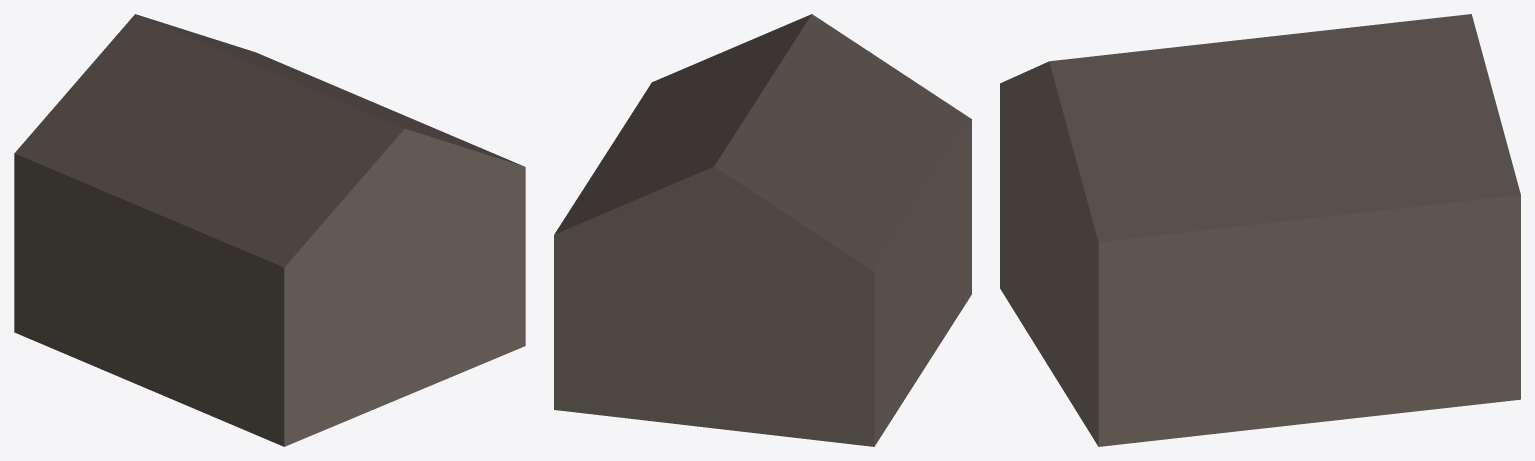
The picture shows the model from 3 angles, left to right: view 1: azimuth 30°, elevation 25°; view 2: azimuth 150°, elevation 25°; view 3: azimuth 270°, elevation 25°; orthographic projection. The views are drawn at different scales.
Visible parts, largest first — view 1: HP-w1200813401; view 2: HP-w1200813401; view 3: HP-w1200813401.
Boxes of the visible parts, left/top/right/bottom form: HP-w1200813401: left=14, top=14, right=525, bottom=446; HP-w1200813401: left=554, top=14, right=971, bottom=446; HP-w1200813401: left=1000, top=14, right=1520, bottom=446.
Size of the model in its own units: 12.95 by 8.98 by 13.84.
